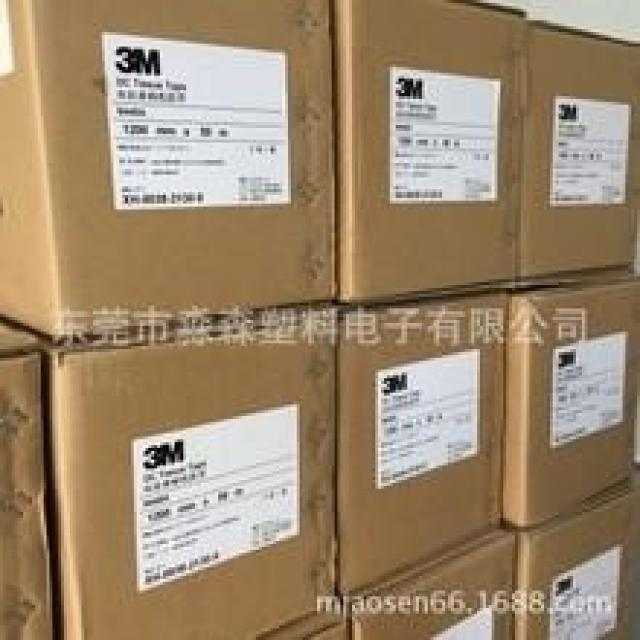box: (44, 305, 335, 640), (332, 0, 527, 303), (337, 291, 512, 599), (500, 273, 640, 527), (515, 20, 640, 288), (503, 468, 640, 640), (349, 527, 518, 640), (0, 320, 55, 640)
